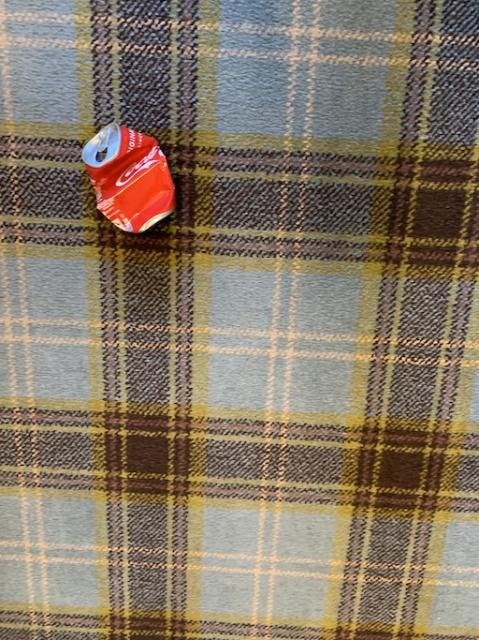metal: (82, 122, 174, 231)
